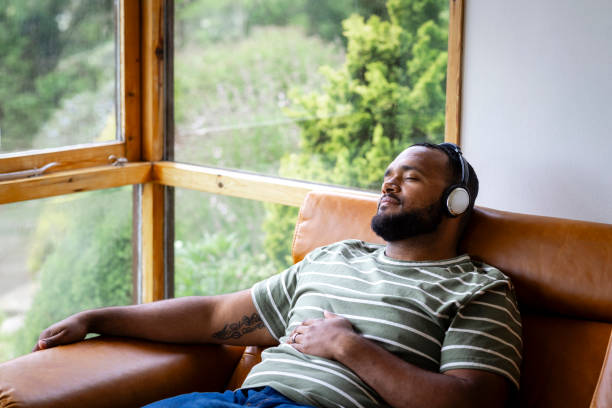Male: (286, 142, 527, 408)
